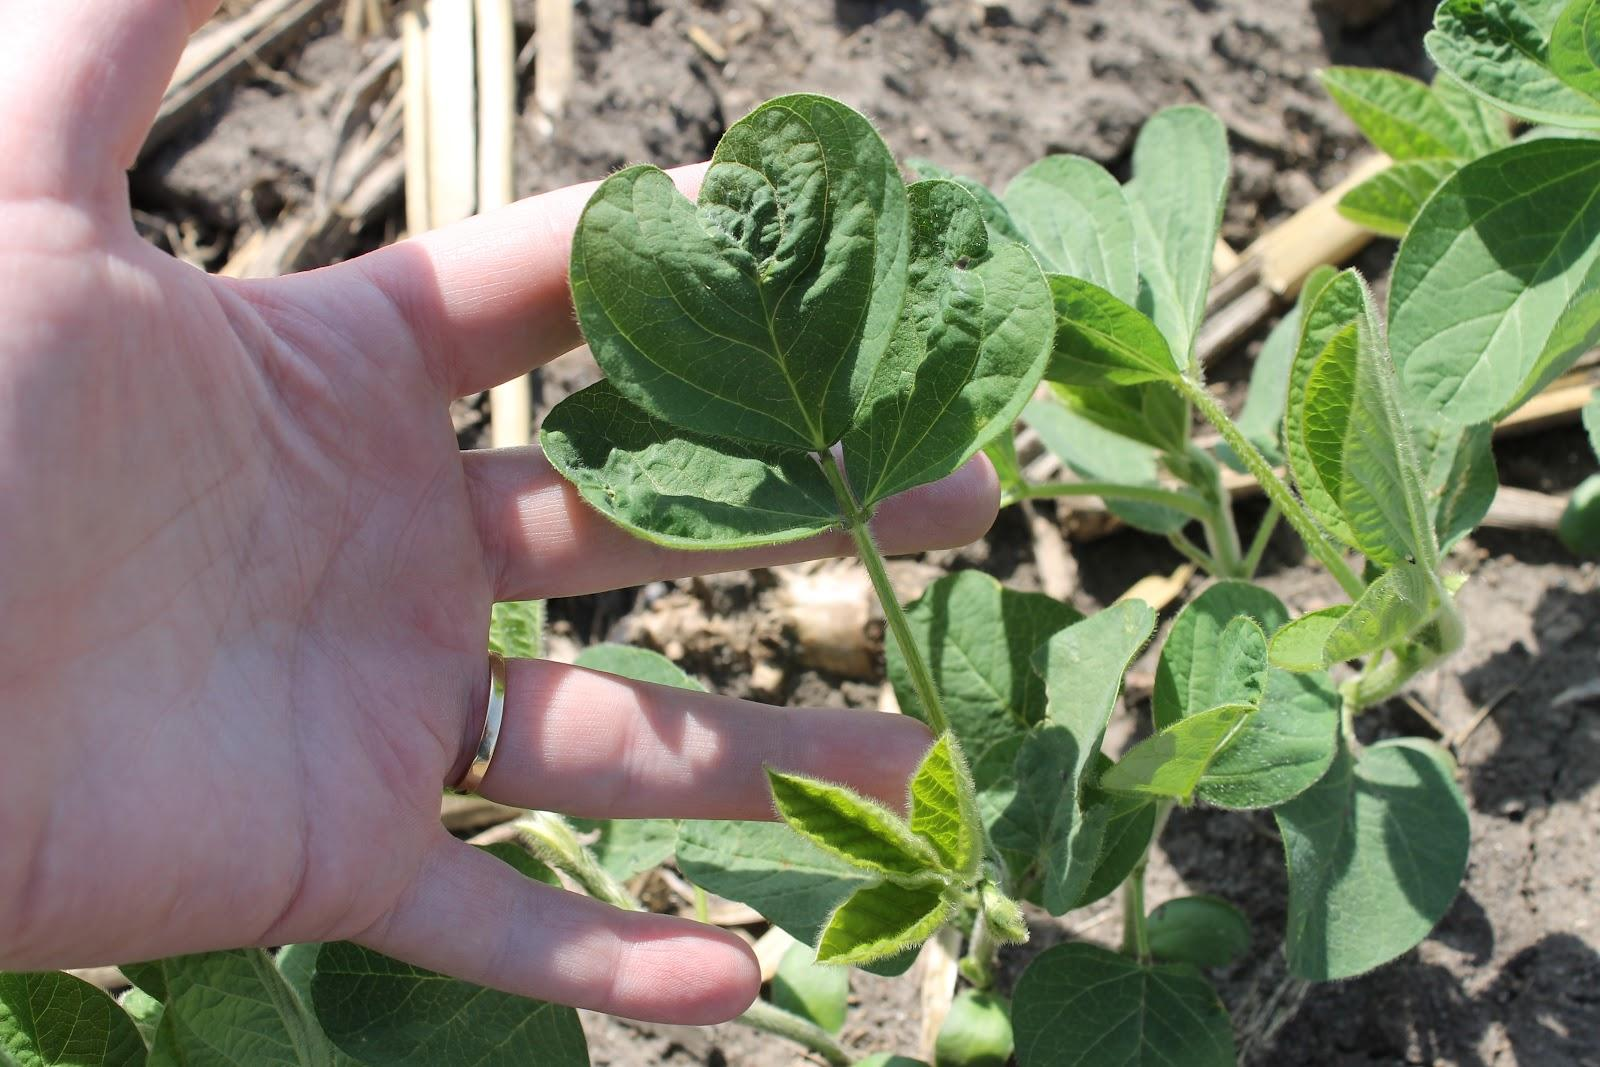Soyabean leaf: (571, 87, 917, 454)
